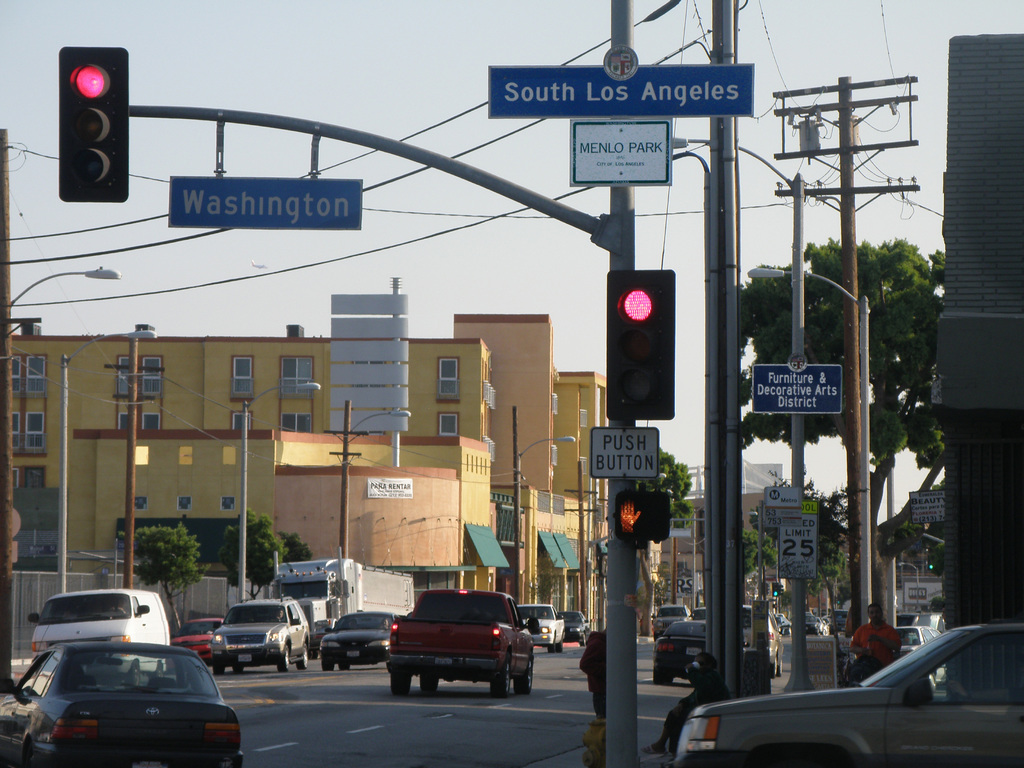red_light: (61, 45, 124, 199), (607, 273, 673, 416)
